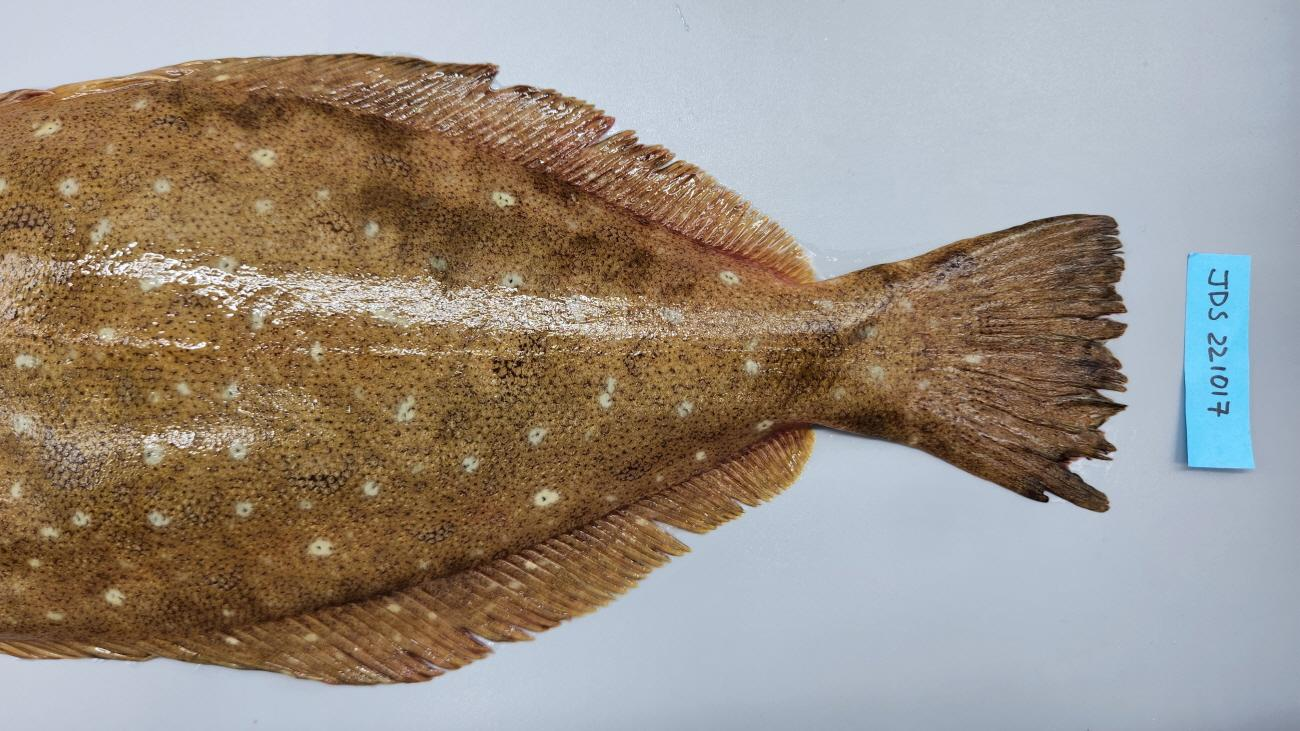POOUN: (0, 52, 1131, 687)
